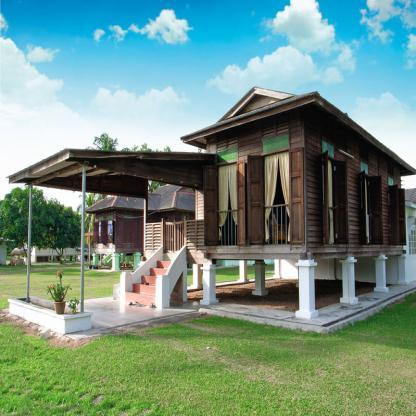Blind: (288, 147, 305, 245), (247, 155, 264, 247), (203, 165, 218, 246), (236, 159, 246, 247)
Building Outline: (5, 86, 416, 335)
Door: (164, 221, 184, 253)
Door Hole: (145, 174, 205, 223)
Facade: (144, 139, 304, 251)
Floor Slab: (144, 251, 304, 260)
Pillar: (295, 260, 319, 319), (200, 264, 219, 306)
Raised Floor: (144, 108, 304, 251)
Roof: (179, 86, 415, 174), (5, 148, 215, 183)
Window: (263, 150, 290, 244), (216, 162, 237, 246), (262, 135, 288, 153), (217, 148, 237, 164)
